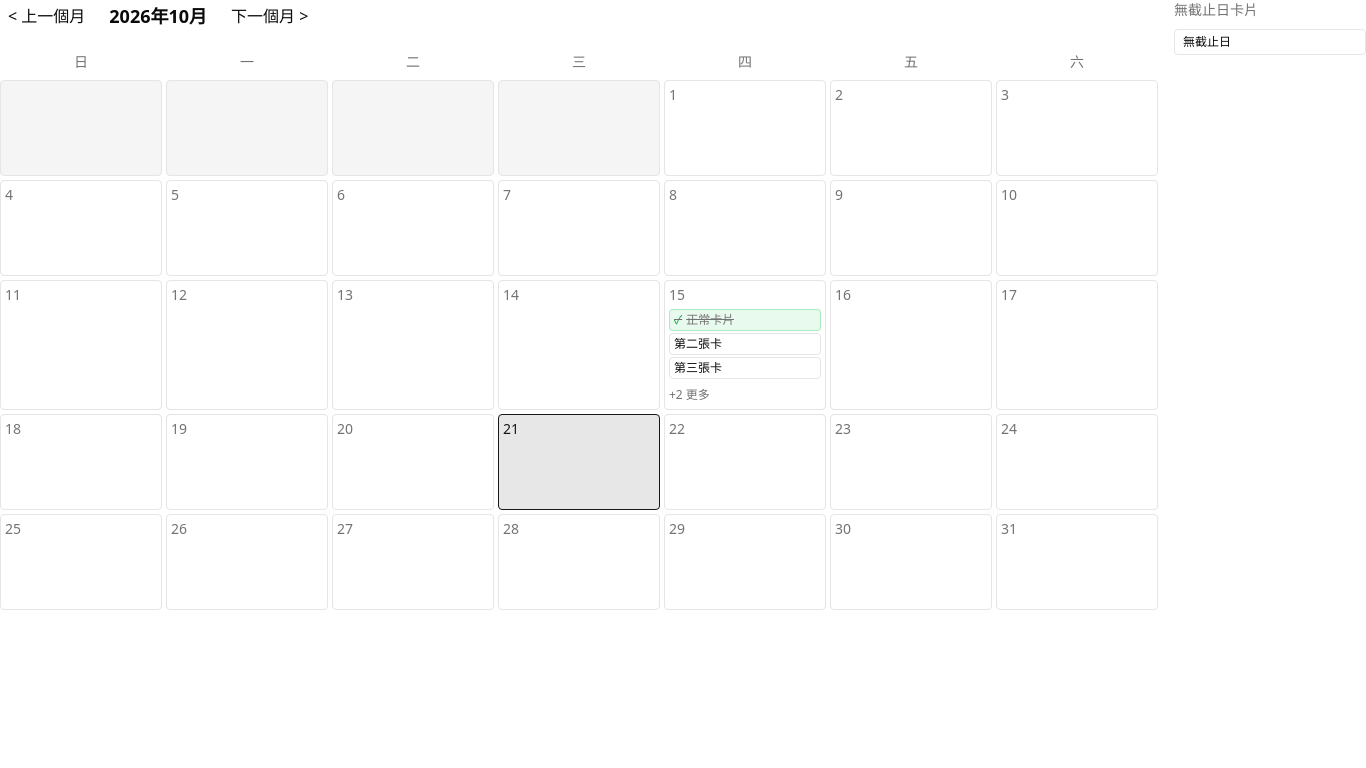
Test case: CalendarTab 更多 popover › 點開更多列出隱藏卡片，點擊開啟 CardDialog
Step 1. Click the button "+2 更多" → x=689, y=395, box x1=669 y1=387 x2=710 y2=403
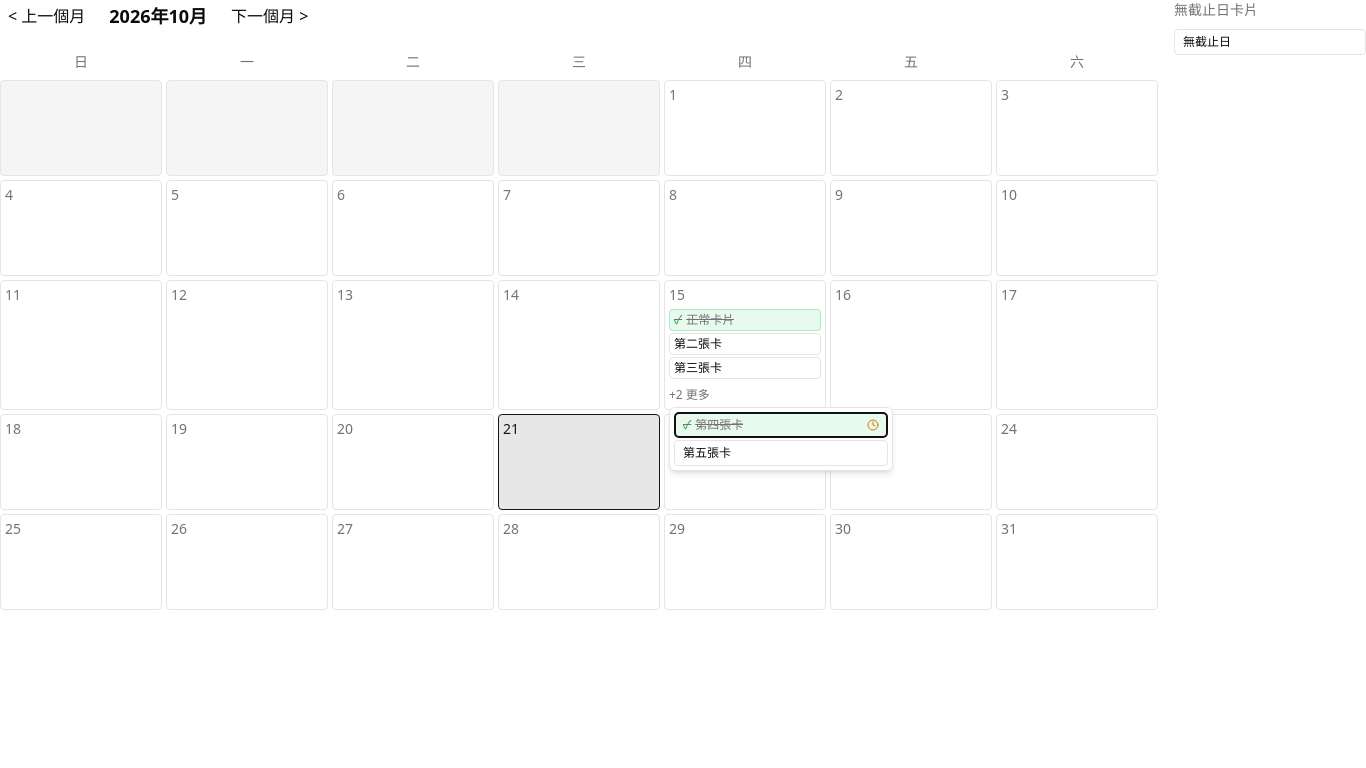
Expected: the text "第四張卡" is shown
Expected: the text "第五張卡" is shown, x1=683 y1=445 x2=731 y2=461
Step 2. Click the text "第四張卡" → x=719, y=425, box x1=695 y1=417 x2=743 y2=433
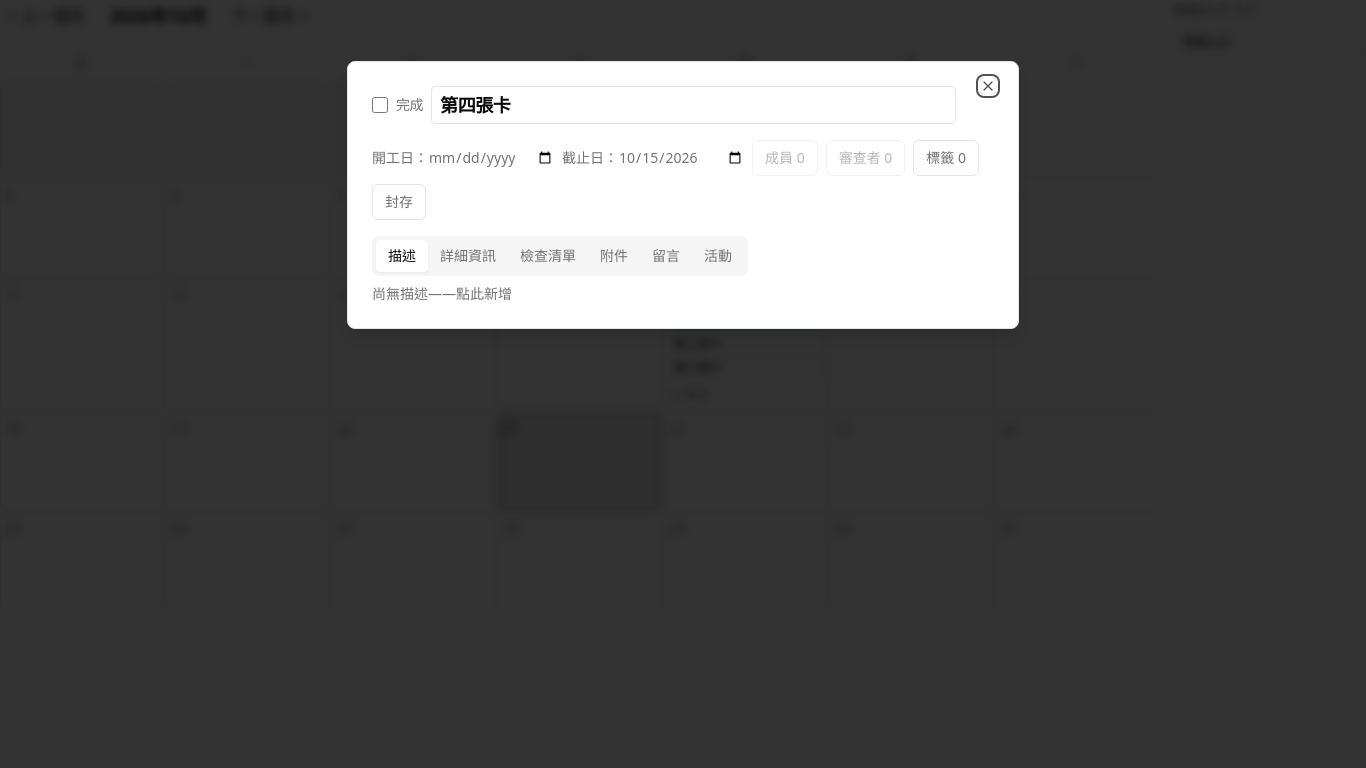
Expected: the field showing "第四張卡" is shown, x1=431 y1=86 x2=956 y2=124
